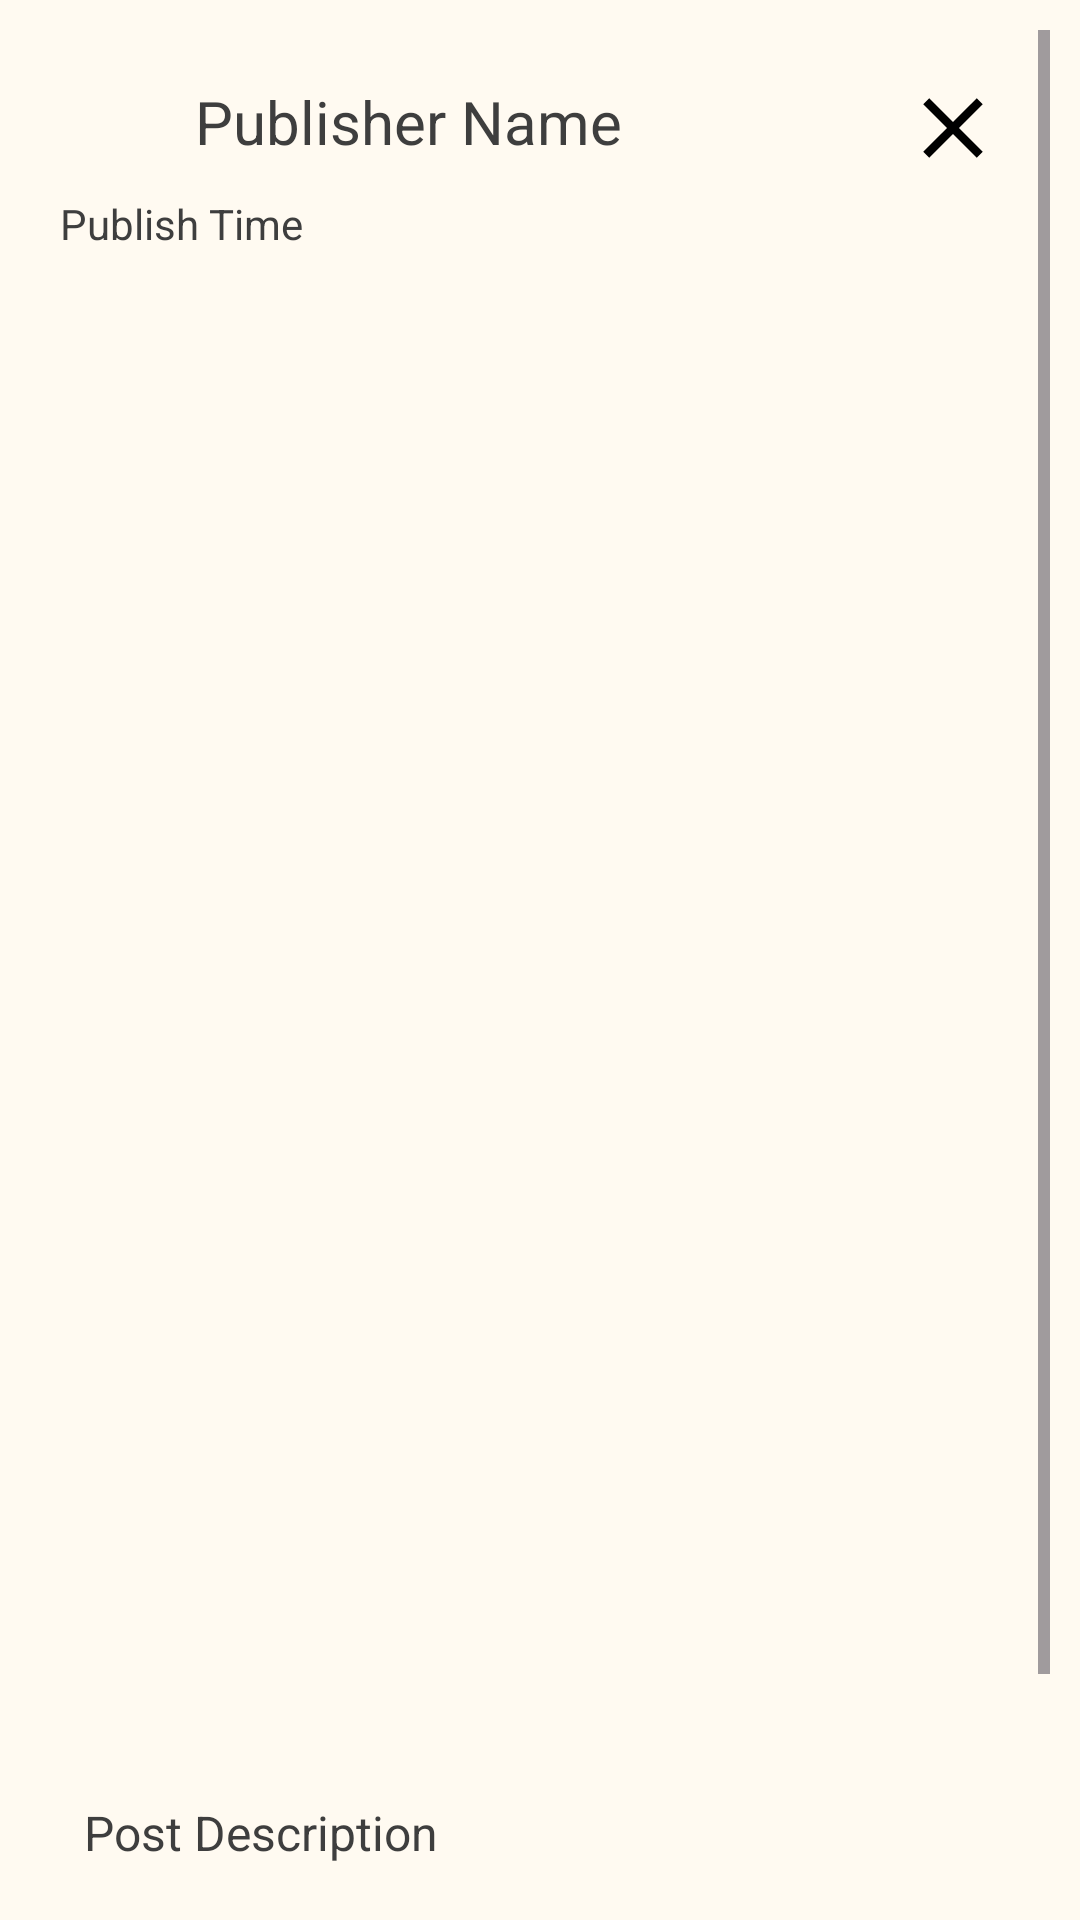

Where icons sit on this 1080 × 1920 app screen, as box=[x1, y1, x2, y2]:
close: box=[923, 98, 983, 158]
